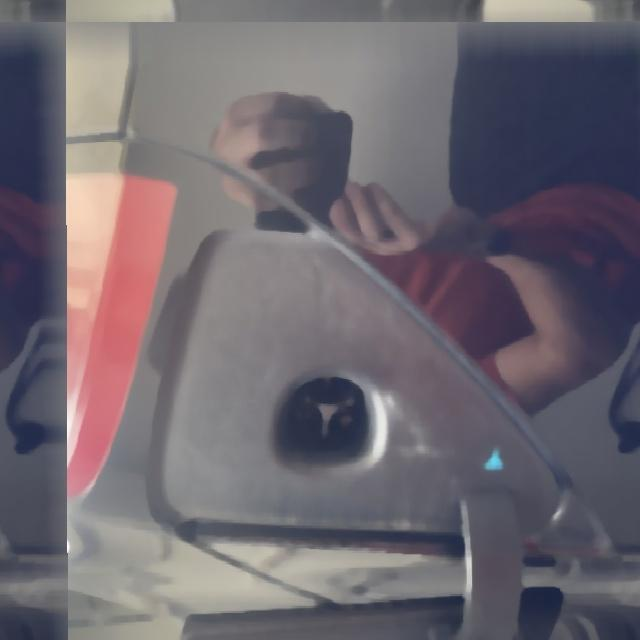Tesla Model-S-: (244, 354, 410, 501)
